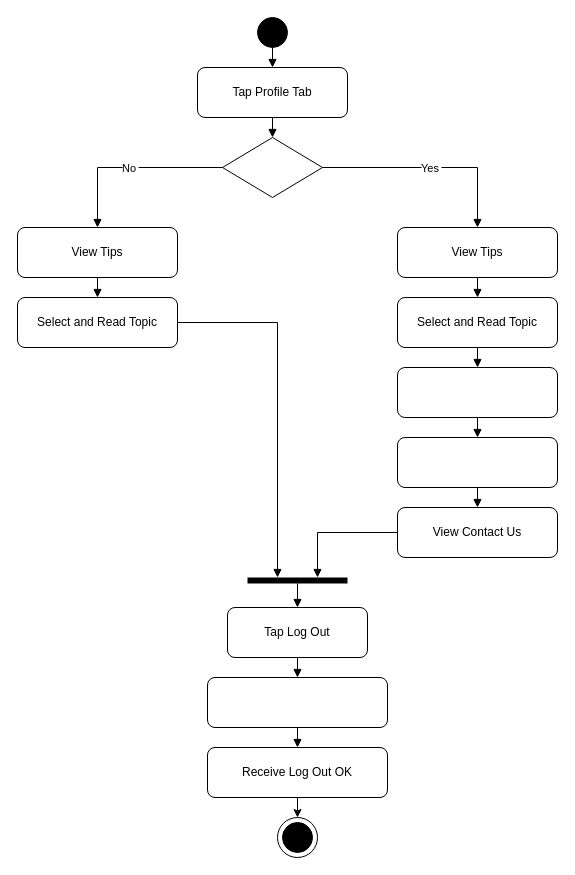
The diagram is 575 pixels wide and 875 high, and some of its shapes have lost their labels. Each missing label, with the centre of its shape:
online mode?: (272,167)
Send Log Out to Firebase: (297,702)
View Privacy Policy: (477,462)
View Terms and Conditions: (477,392)
